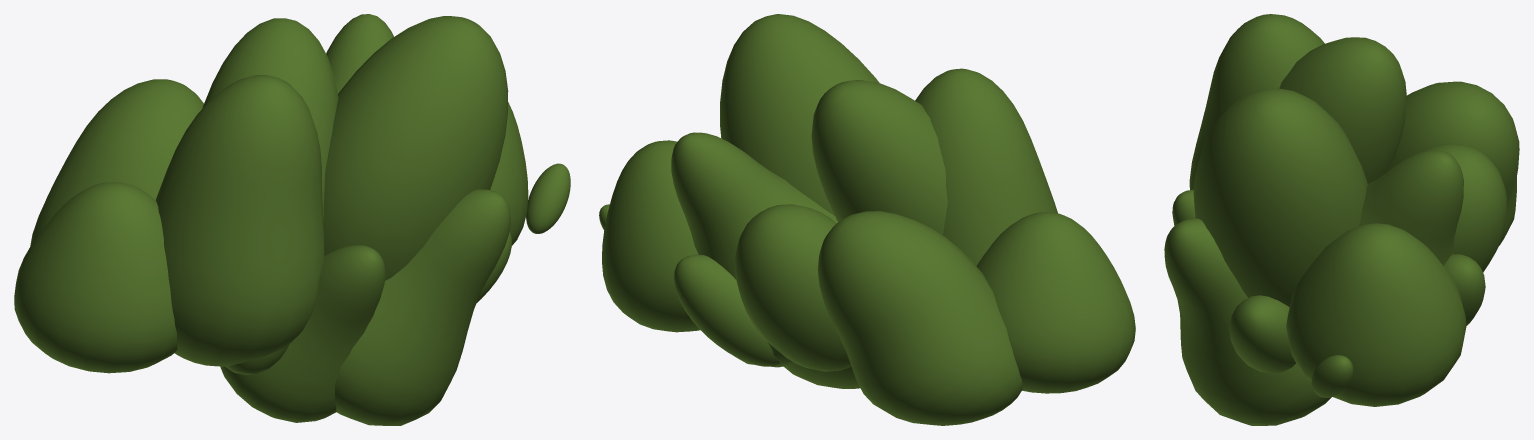
File: bush.dae
The picture shows the model from 3 angles, left to right: view 1: azimuth 30°, elevation 25°; view 2: azimuth 150°, elevation 25°; view 3: azimuth 270°, elevation 25°; orthographic projection. The views are drawn at different scales.
Visible parts, largest first — view 1: Bush; view 2: Bush; view 3: Bush.
Boxes of the visible parts, x1,y1,x2,y2 form: Bush: (14,14,570,425); Bush: (599,14,1135,425); Bush: (1164,14,1519,425).
Bounding box in the file's own units: 1.49 × 0.9691 × 0.8809.
